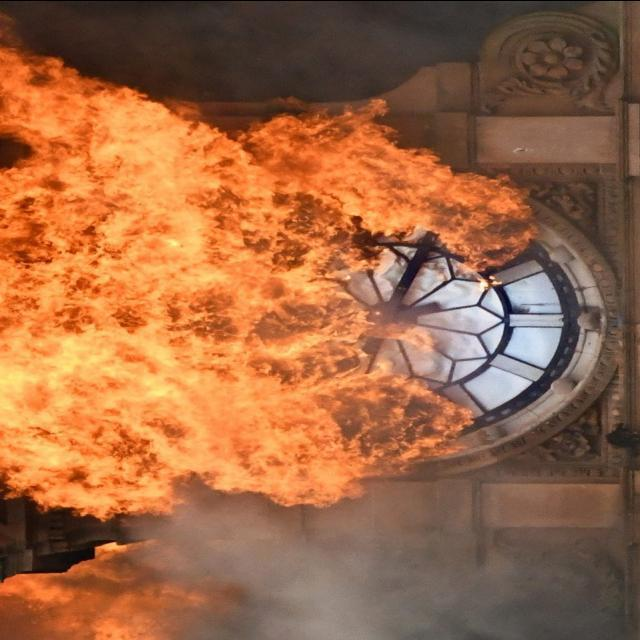Fire: (1, 66, 623, 640)
